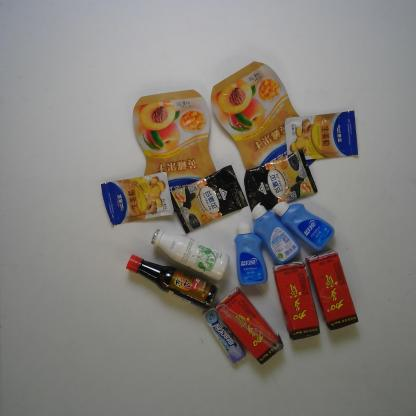Candy: (202, 302, 246, 366)
Dried Fruit: (210, 61, 316, 171), (132, 88, 217, 212)
Drink: (214, 287, 285, 365), (304, 249, 359, 332), (272, 260, 321, 342)
Instant Drink: (170, 164, 249, 235), (243, 149, 319, 213)
Milk: (150, 228, 230, 281)
Personal Hygiene: (271, 200, 336, 252), (251, 202, 302, 265), (233, 222, 268, 287)
Seasoner: (124, 253, 218, 311), (100, 172, 175, 226), (284, 109, 359, 161)
